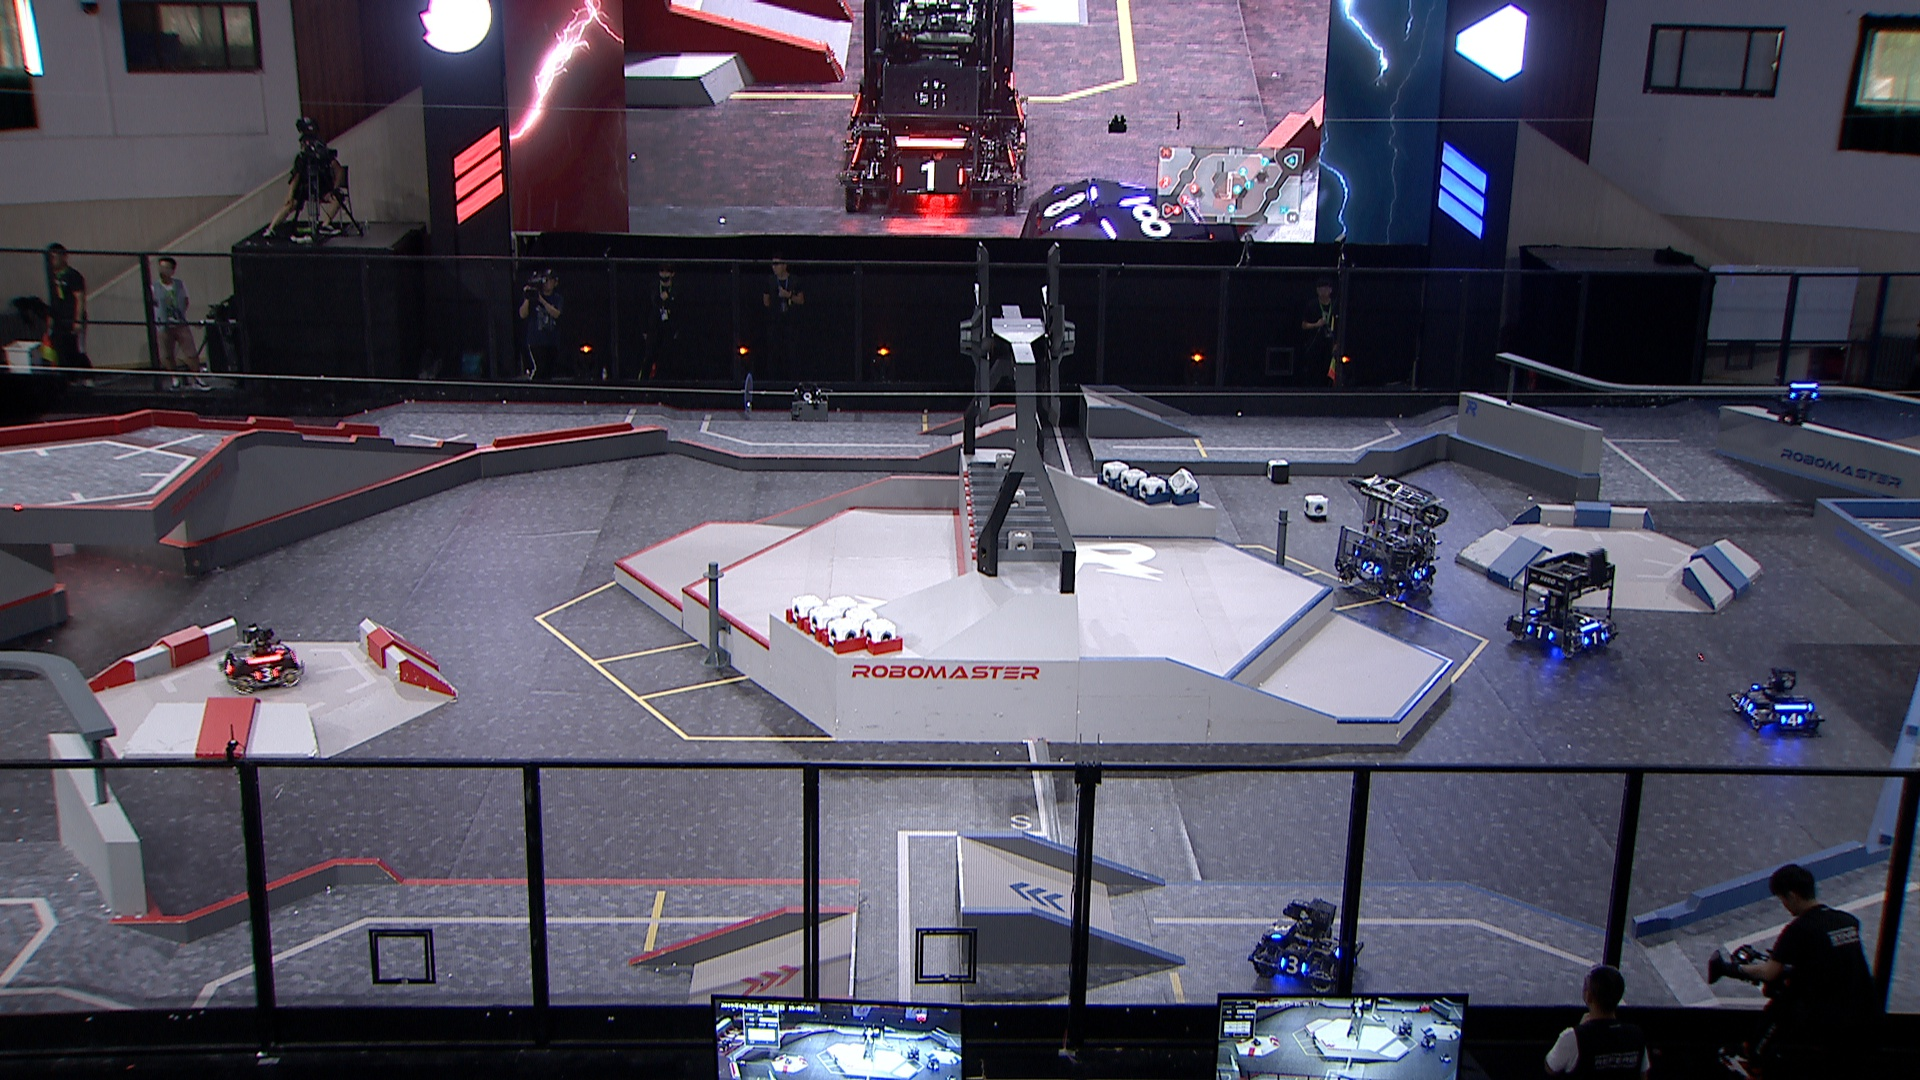armor: (1524, 624, 1553, 642), (1280, 955, 1307, 975), (1779, 712, 1804, 731), (1269, 920, 1291, 939), (252, 666, 278, 680), (1737, 694, 1755, 713), (1360, 559, 1381, 576), (1788, 389, 1817, 401), (1582, 632, 1605, 646), (1411, 566, 1428, 583), (268, 642, 287, 655), (222, 655, 233, 674)
car: (1335, 473, 1448, 603), (1505, 550, 1618, 659), (1245, 894, 1352, 994), (1730, 666, 1826, 735), (215, 622, 305, 694)
ignore: (839, 0, 1030, 218), (1019, 177, 1215, 244)
watcher: (1774, 377, 1820, 429)
